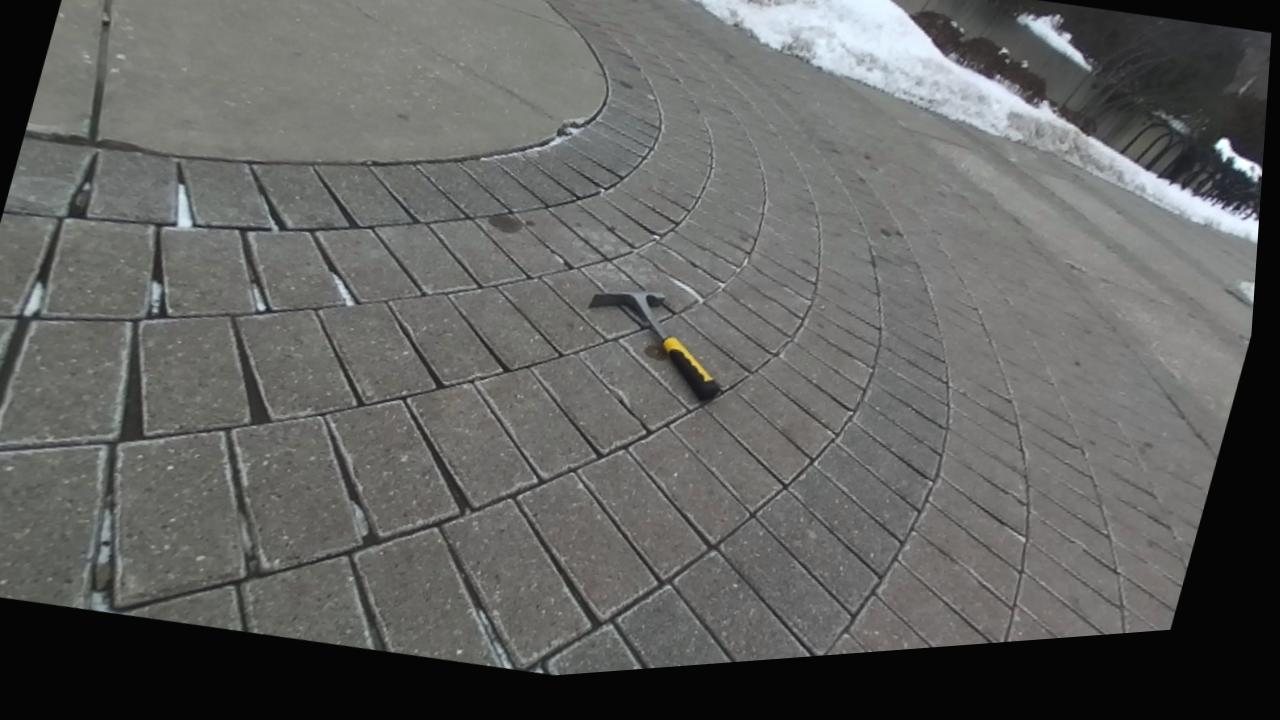pick: (589, 291, 719, 400)
